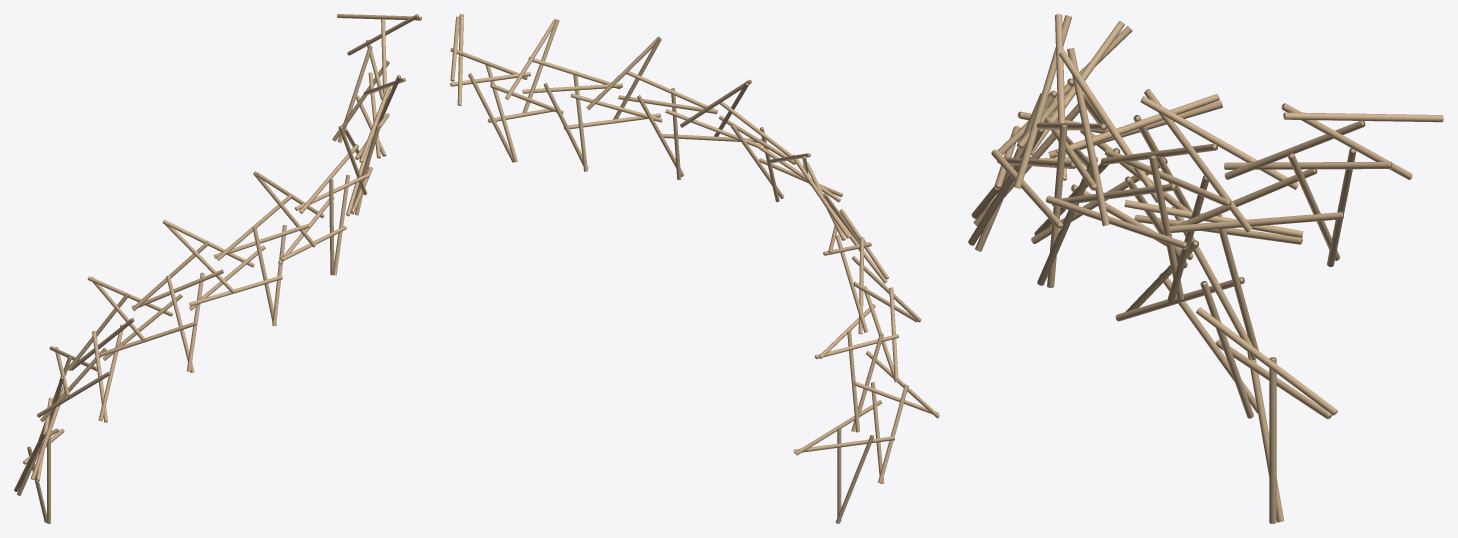
The picture shows the model from 3 angles, left to right: view 1: azimuth 30°, elevation 25°; view 2: azimuth 150°, elevation 25°; view 3: azimuth 270°, elevation 25°; orthographic projection. The views are drawn at different scales.
Visible parts, largest first — view 1: no part large enough to name; view 2: no part large enough to name; view 3: Part 3, Part 53, Part 42, Part 0, Part 59, Part 34, Part 51, Part 50, Part 43, Part 56, Part 45, Part 57 (+32 smaller).
Boxes of the visible parts, x1,y1,x2,y2 form: Part 3: (1196, 307, 1337, 415); Part 53: (1170, 212, 1343, 232); Part 42: (1067, 48, 1109, 225); Part 0: (1269, 357, 1276, 523); Part 59: (1283, 112, 1443, 122); Part 34: (1014, 15, 1071, 188); Part 51: (1140, 96, 1298, 189); Part 50: (1144, 89, 1252, 232); Part 43: (1059, 50, 1157, 202); Part 56: (1224, 161, 1392, 169); Part 45: (1046, 196, 1187, 249); Part 57: (1224, 120, 1365, 179).
Bounding box in the file's own units: 0.4971 × 0.4538 × 0.2634.
